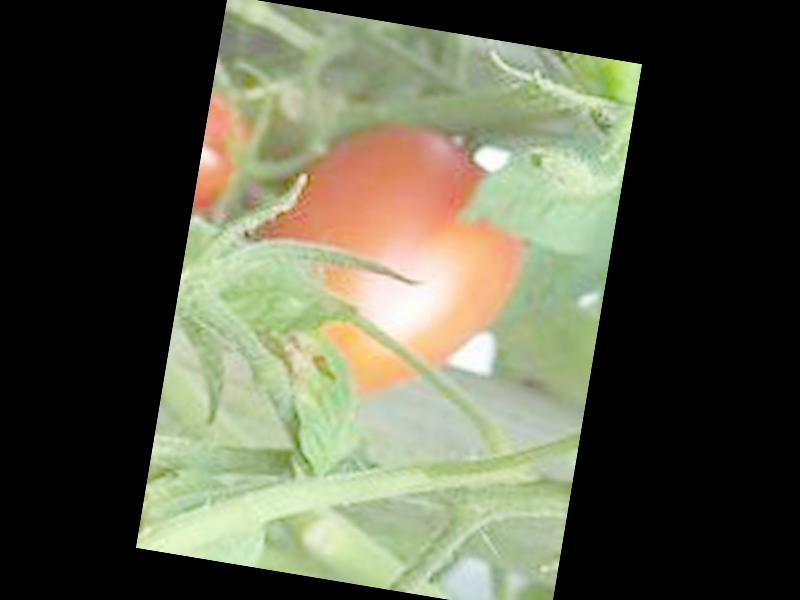Tomato: (245, 108, 542, 413)
